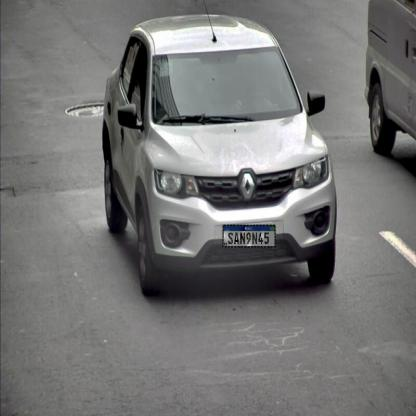PlacaM: (222, 224, 276, 247)
